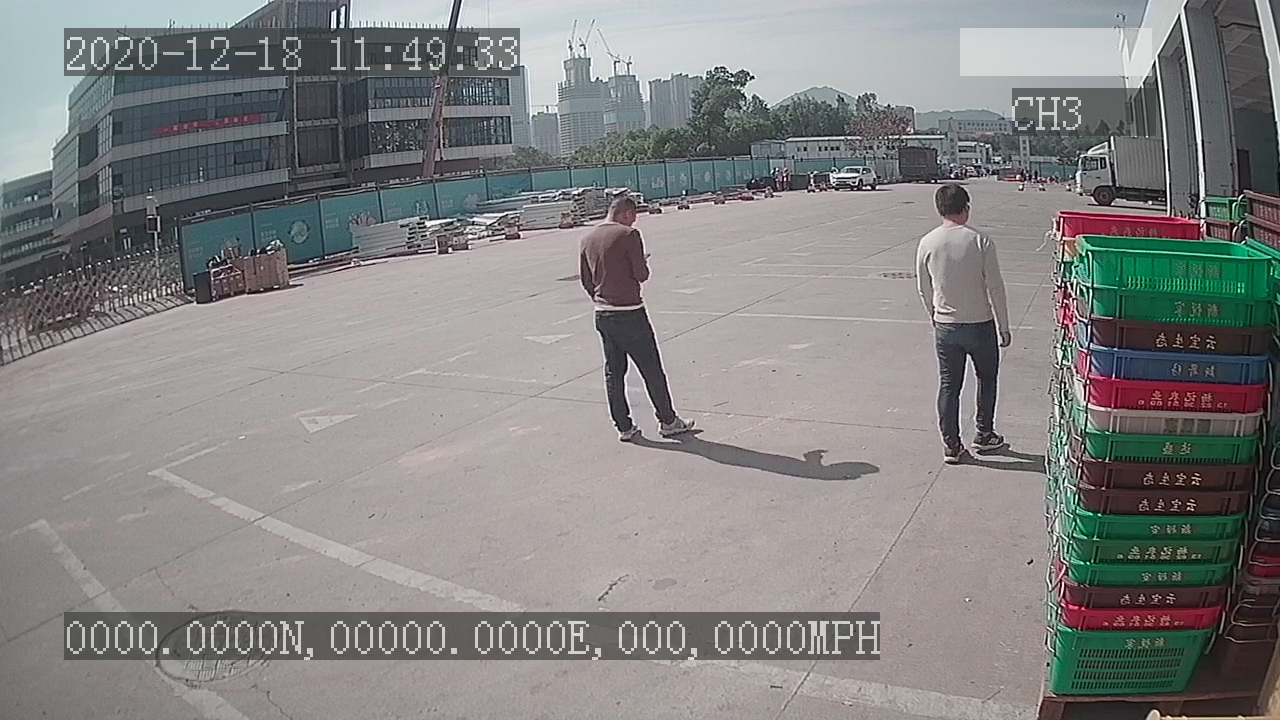person: (572, 192, 701, 447), (908, 176, 1015, 469)
